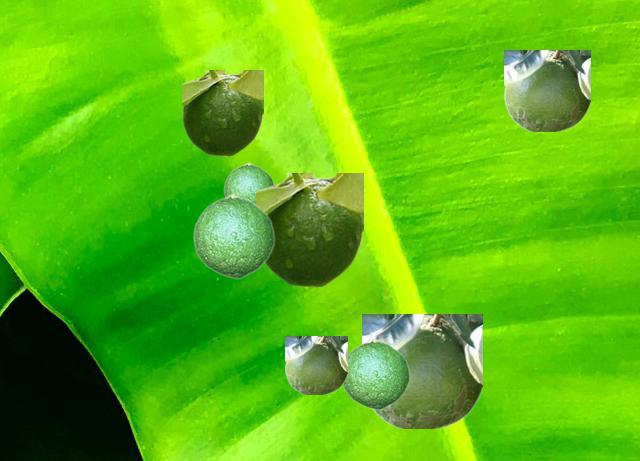dalandan: (362, 314, 481, 427), (256, 173, 362, 286), (192, 193, 274, 278), (182, 70, 262, 155), (504, 50, 589, 130), (342, 338, 409, 409), (285, 336, 346, 393), (223, 162, 274, 202)
